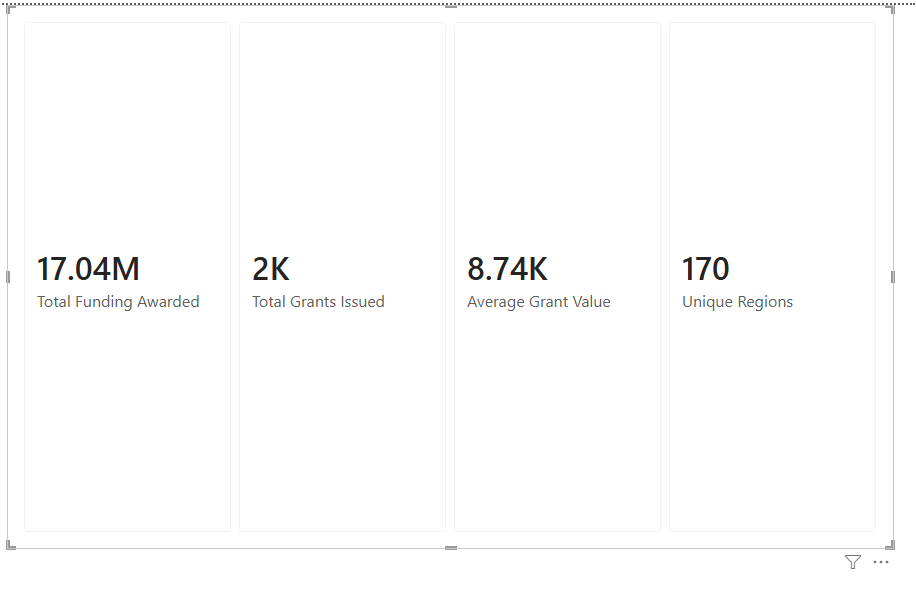

The page's visual inventory and layout, read from the dashboard file:
{"tool":"powerbi","page":{"name":"General Overview","canvas":[1280,720],"ordinal":1},"visuals":[{"type":"cardVisual","fields":{"Data":["national_church_grants_2016_2024.Total Funding Awarded","national_church_grants_2016_2024.Total Grants Issued","national_church_grants_2016_2024.Average Grant Value","national_church_grants_2016_2024.Unique Regions"]},"box":[10,0,887,544],"z":0}]}

Visuals, with their boxes on the page's 1280x720 design canvas (x1, y1, x2, y2). These are canvas units, not pixel positions in the 916x600 screenshot, which may show the page scaled, cropped or inside an application window:
cardVisual - national_church_grants_2016_2024.Total Funding Awarded x national_church_grants_2016_2024.Total Grants Issued: {"x1": 10, "y1": 0, "x2": 897, "y2": 544}
